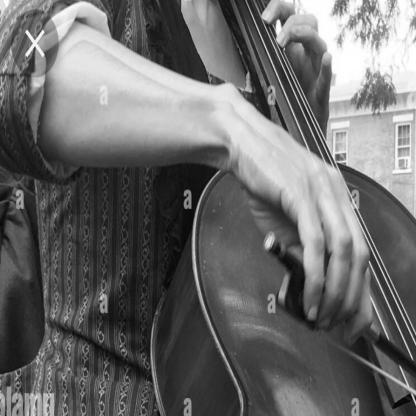good: (219, 79, 379, 363)
